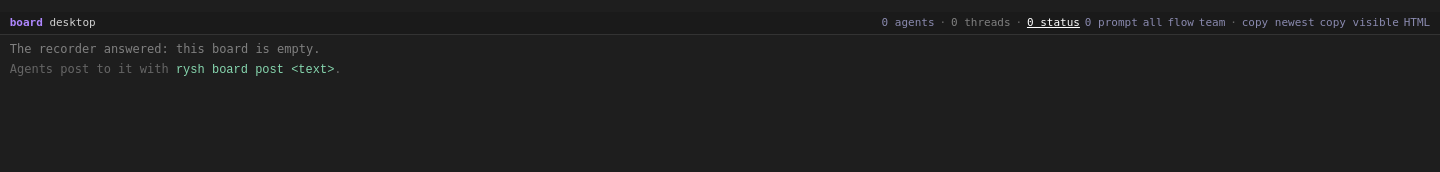
AgentsBoardView — copy and output (design 049) › refuses to copy an empty board
Click the button "copy newest" at (1278, 23), box x1=1242 y1=15 x2=1315 y2=31
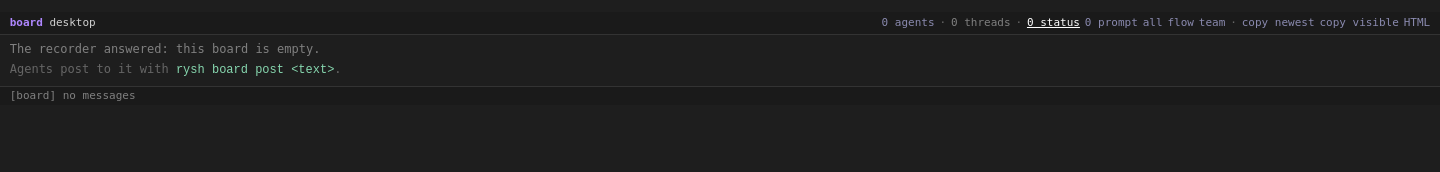
Check: the text "[board] no messages" is shown, box x1=0 y1=86 x2=1439 y2=105
